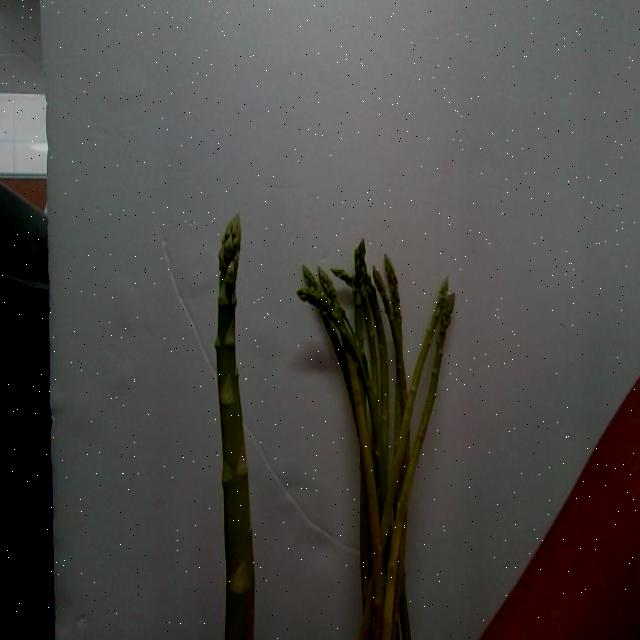aspargus: (217, 216, 255, 640)
